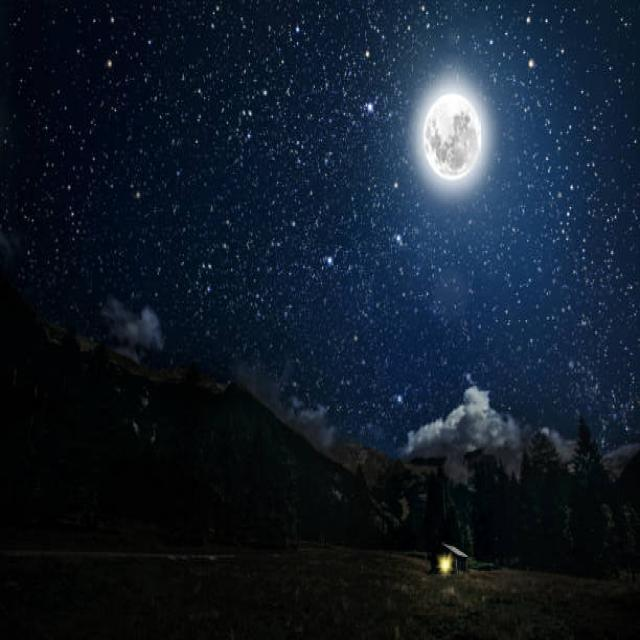moon: (418, 90, 479, 180)
